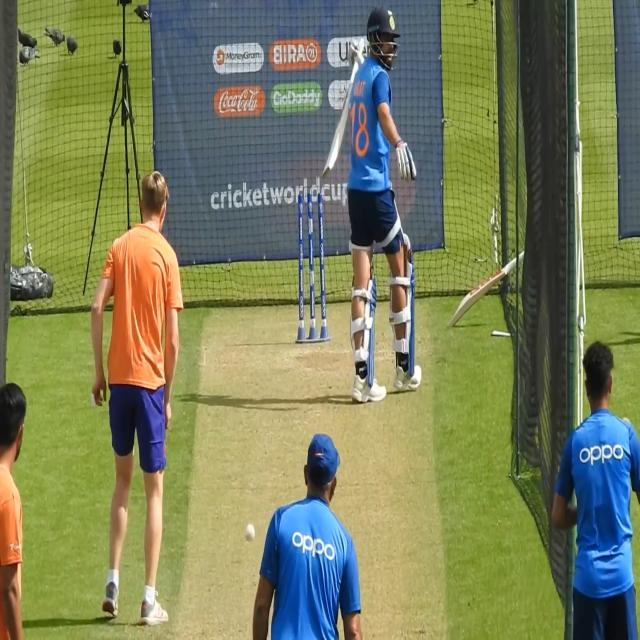ball: (243, 520, 257, 546)
stump: (295, 191, 329, 345)
